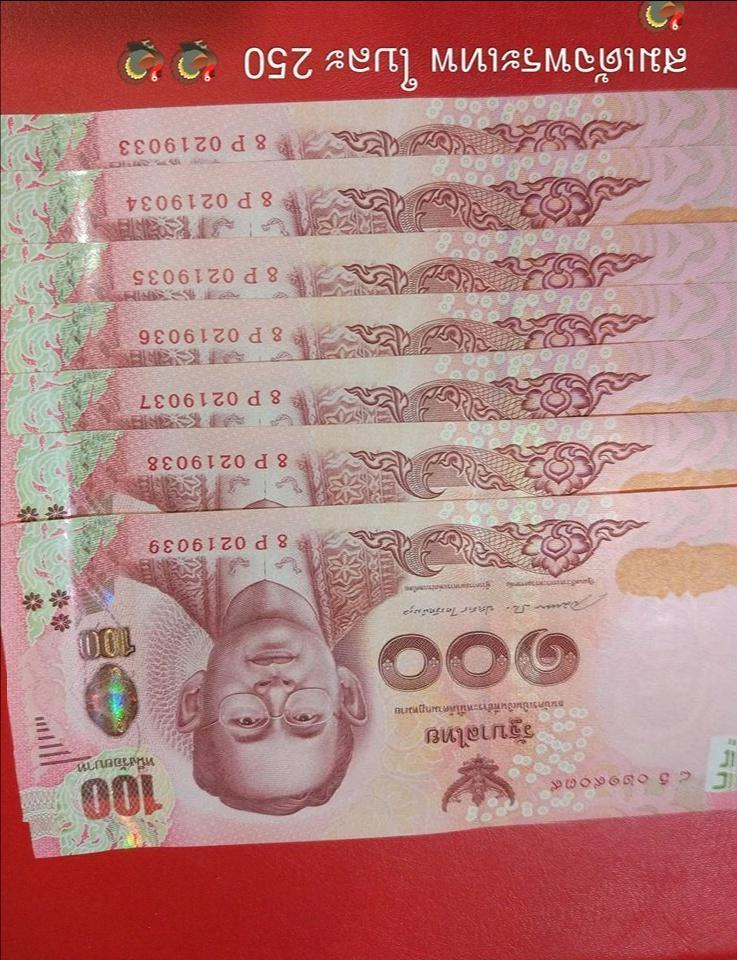100BahtTai: (8, 515, 737, 823)
